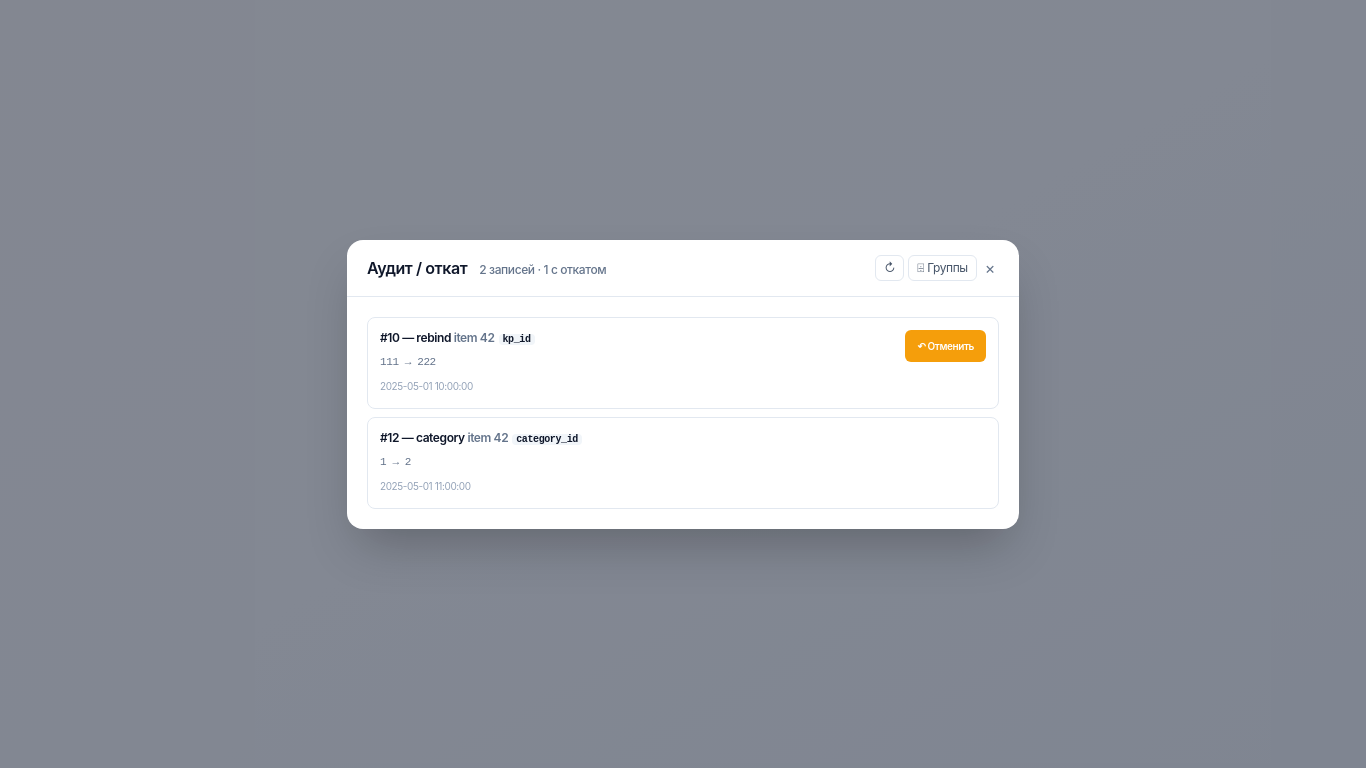
Test: AuditPanel.vue › toggles between flat and grouped renders
Expected: the list with test id "audit-panel-list" is shown, [367,316,999,508]
# Click the group toggle
Click the button with test id "audit-panel-group-toggle" at (943, 268), box [908,254,977,280]
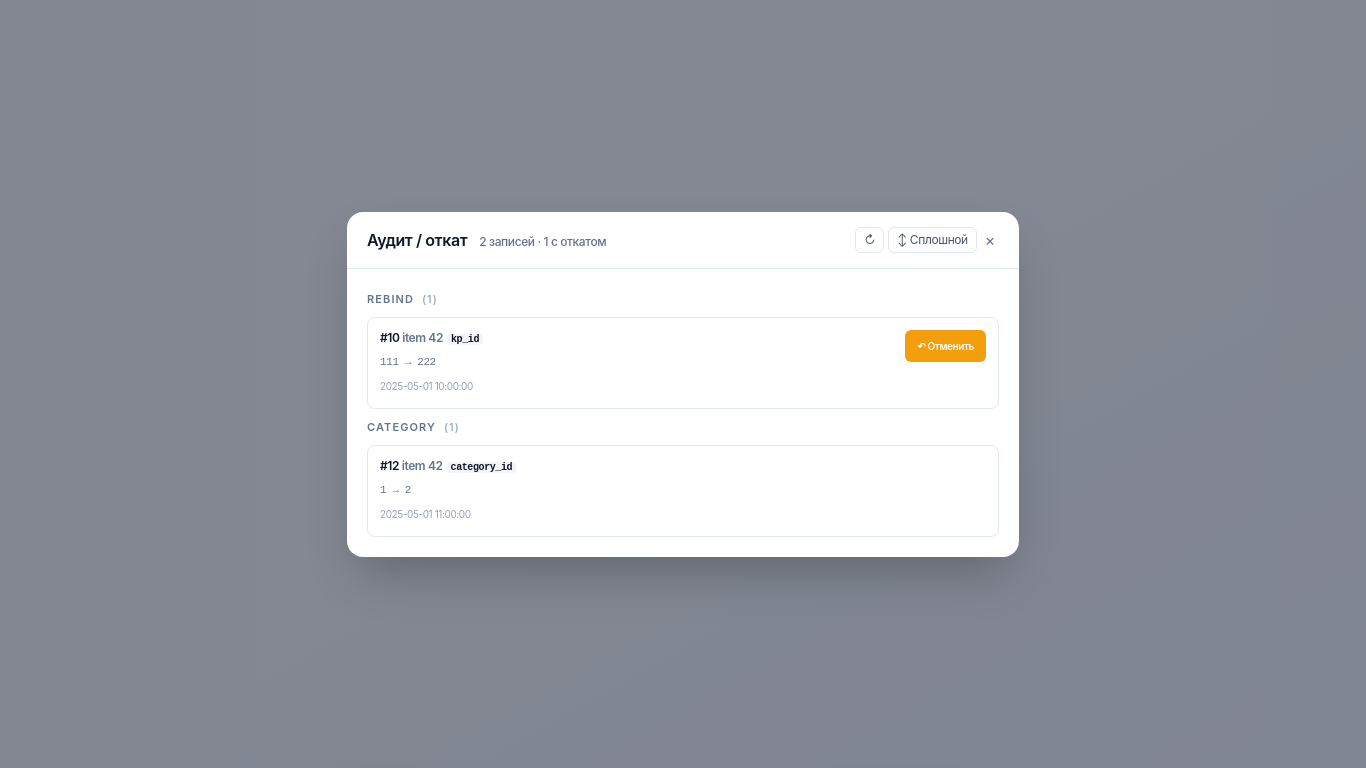
Now the element with test id "audit-group-rebind" is shown, box [367,288,999,408]
Now the element with test id "audit-group-category" is shown, box [367,416,999,536]
